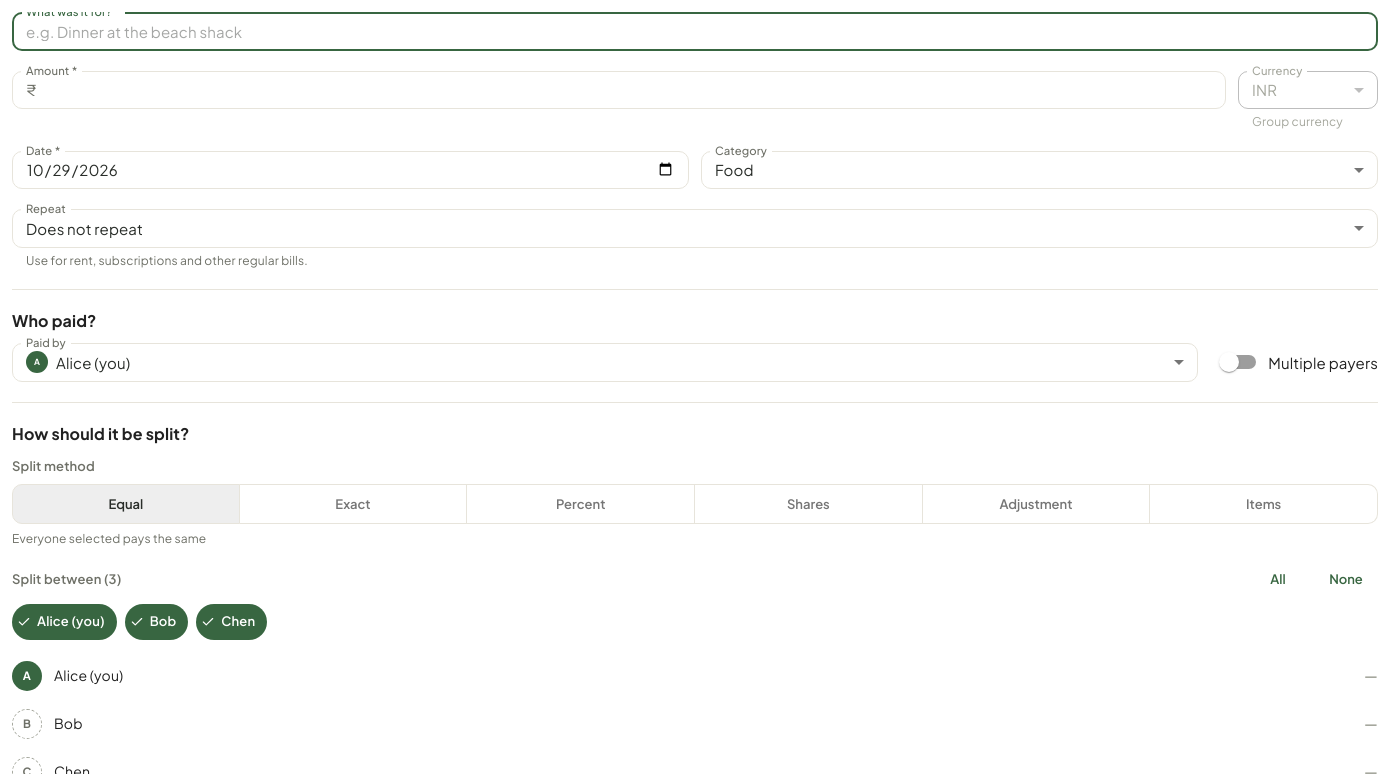
Test: ExpenseForm › switches methods and validates that percentages total 100%
The width and height of the screenshot is (1390, 774).
Step 1. Type "100" into the field labelled "Amount *" → (635, 90), box [44,71,1226,109]
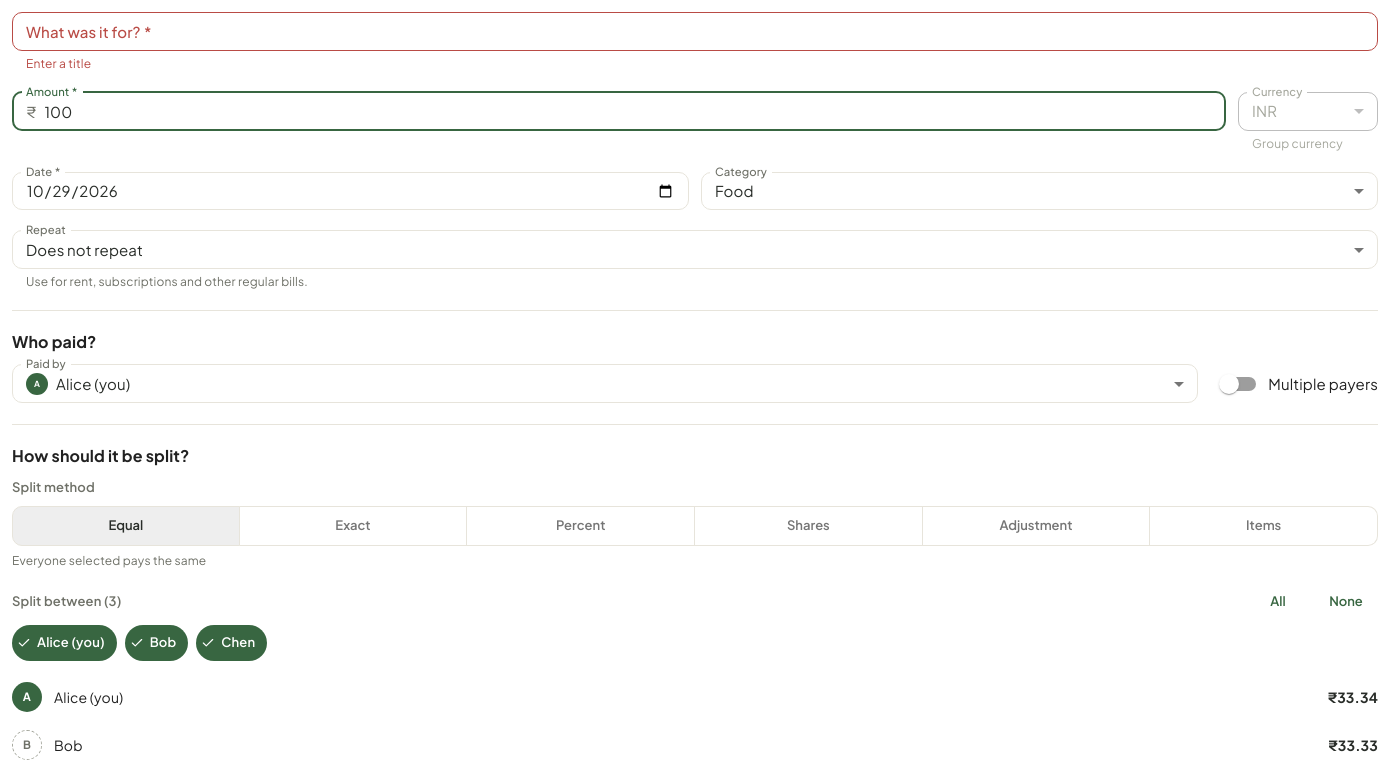
Step 2. Click the button "Percent" → (581, 526), box [466,506,695,546]
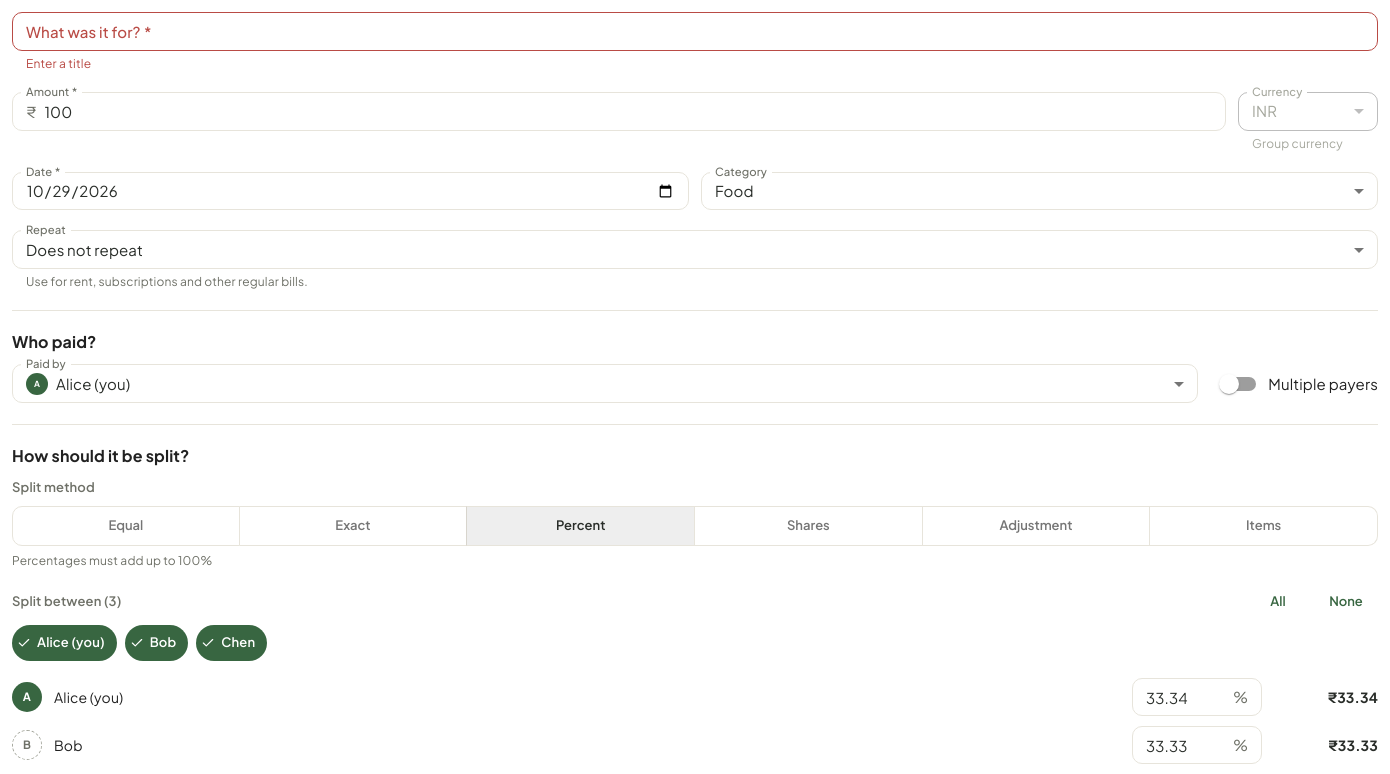
Check: the field named "Percentage for Alice" holds "33.34", box [1132,678,1225,716]
Step 3. Replace the text in the field named "Percentage for Bob" with "30" → (1179, 745), box [1132,726,1225,764]
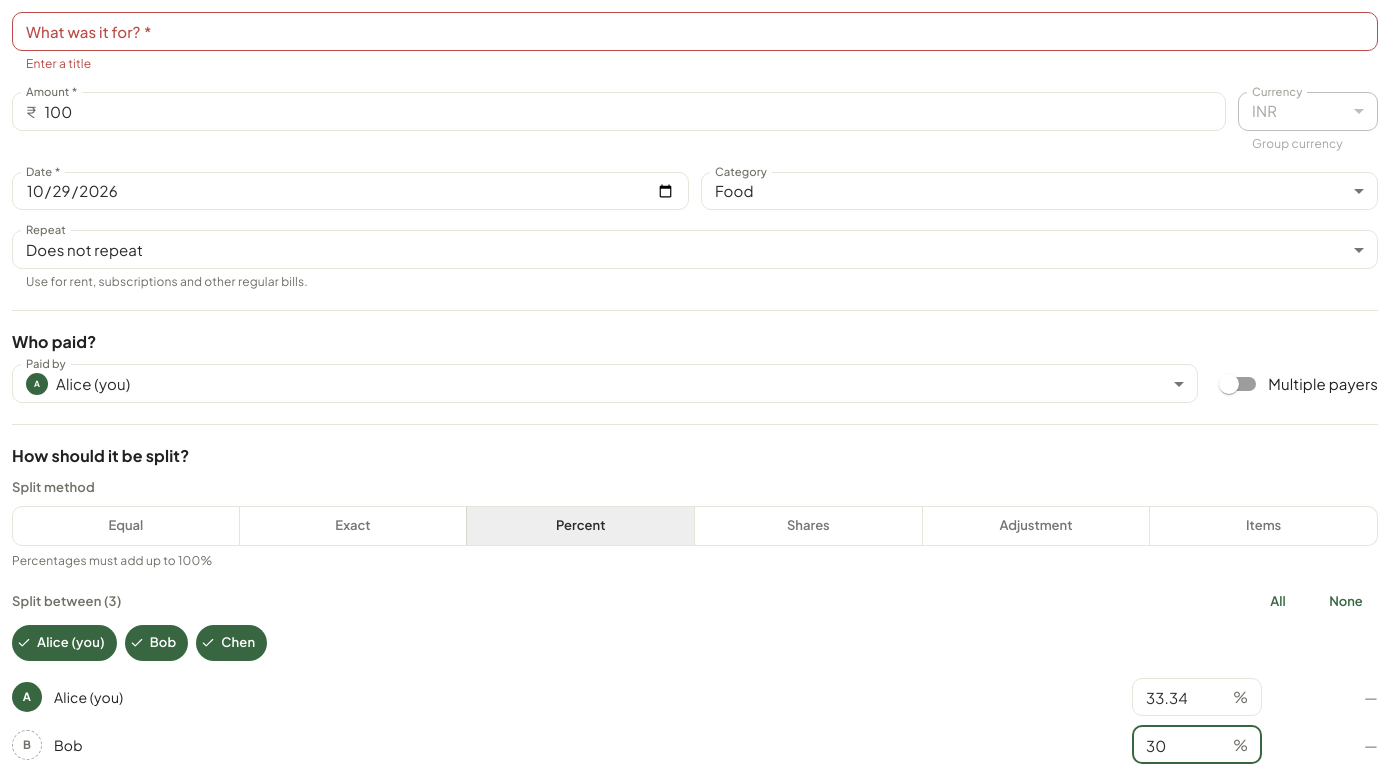
Step 4. Click the button "Shares" → (808, 526), box [694,506,923,546]
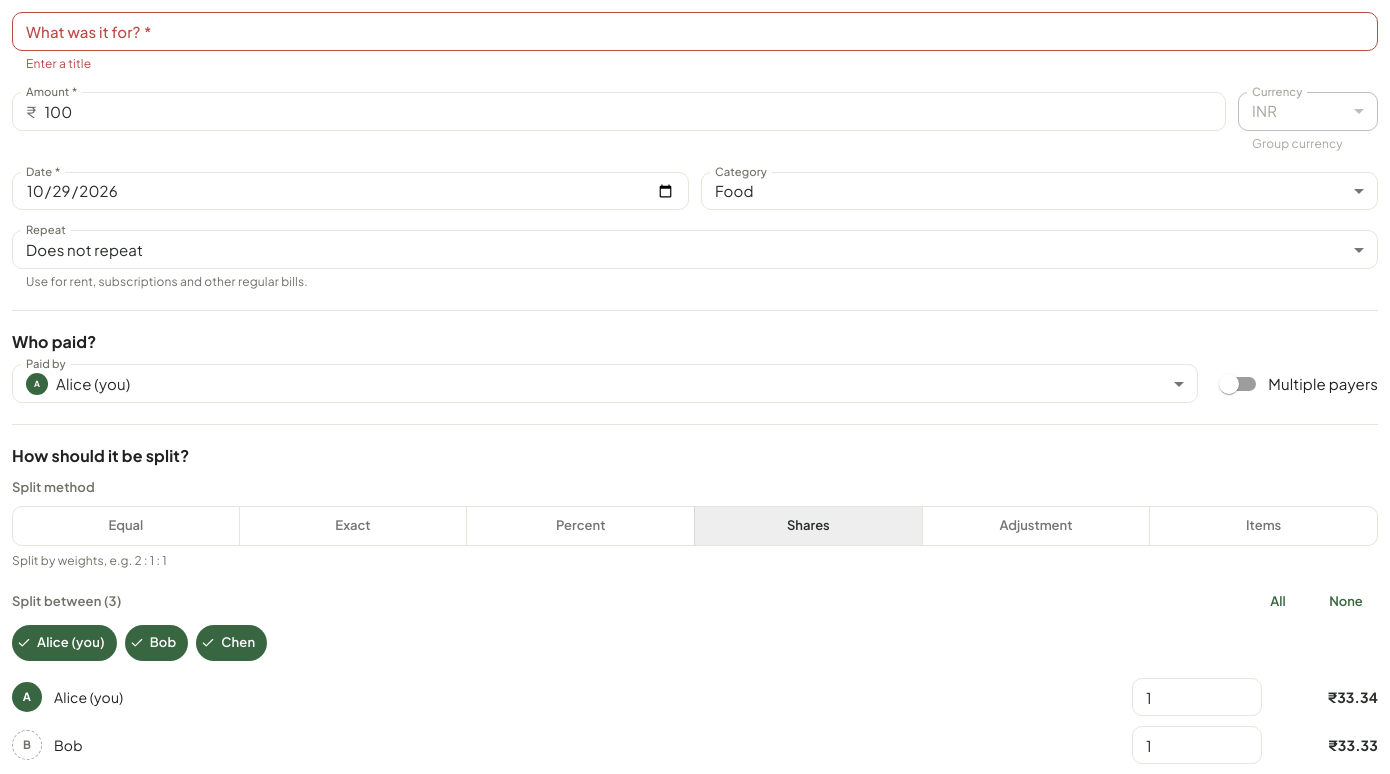
Check: the field named "Shares for Alice" holds "1", box [1132,678,1262,716]
Check: the text with test id "share-m1" reads "₹33.34", box [1327,688,1378,706]
